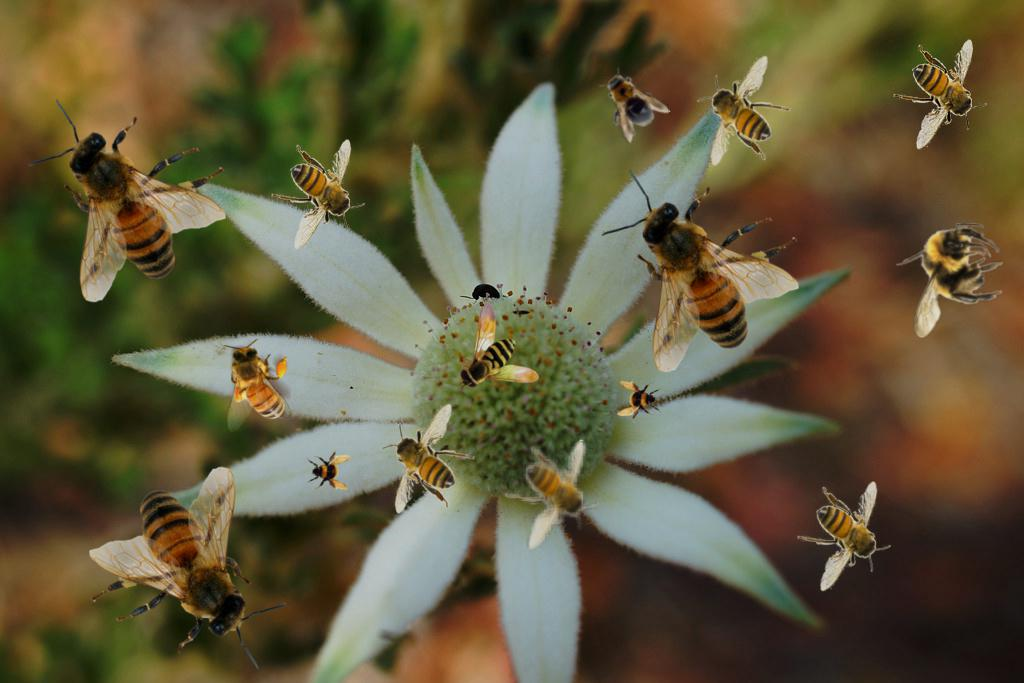Bee: (27, 99, 226, 303), (600, 169, 799, 373), (89, 466, 288, 670), (896, 223, 1003, 338), (797, 481, 891, 592), (697, 55, 791, 166), (505, 439, 599, 550), (381, 403, 475, 514), (893, 39, 987, 150), (271, 139, 365, 250), (587, 59, 671, 145), (457, 302, 539, 390), (223, 339, 291, 432), (617, 379, 661, 423), (307, 448, 351, 492)
